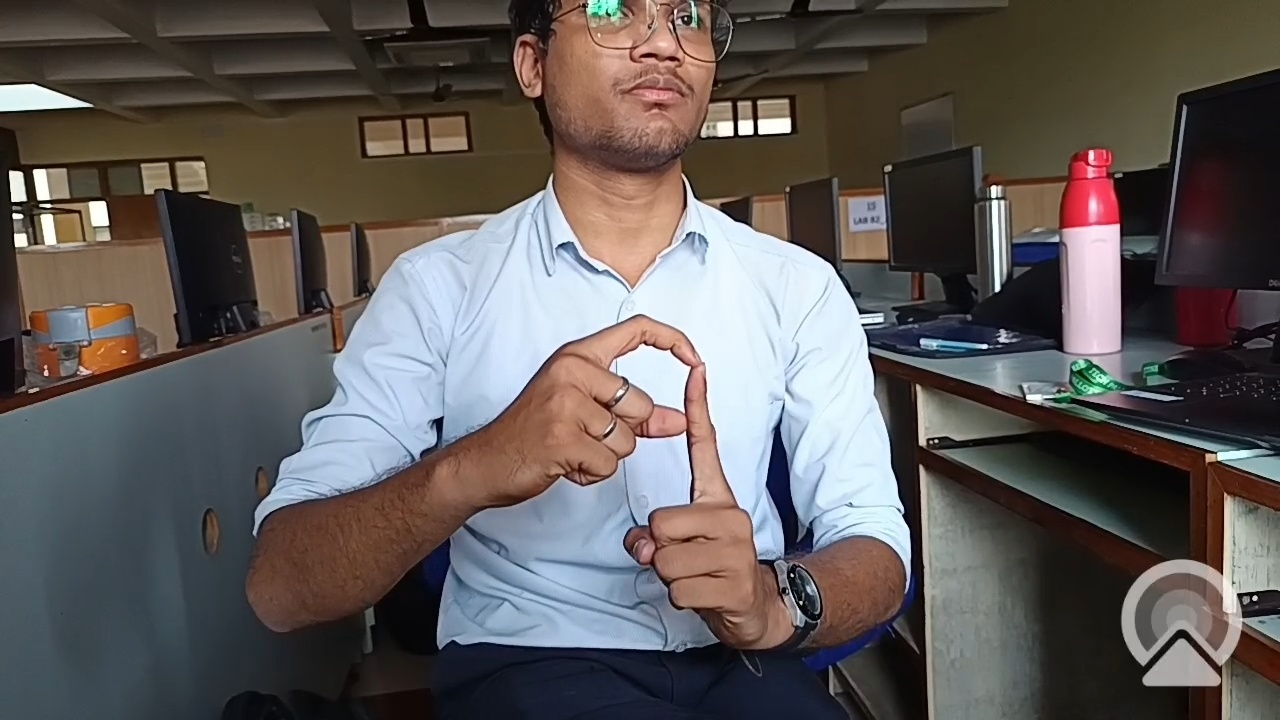P: (497, 287, 787, 631)
